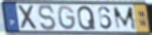6: (97, 6, 114, 31)
G: (57, 5, 78, 32)
M: (112, 6, 139, 32)
Q: (76, 5, 97, 31)
S: (37, 4, 58, 32)
X: (17, 4, 39, 31)
